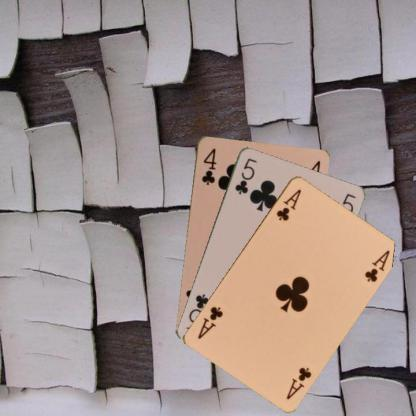4c: (199, 145, 217, 186)
5c: (232, 155, 258, 195)
Ac: (273, 186, 303, 222), (283, 364, 313, 400)
